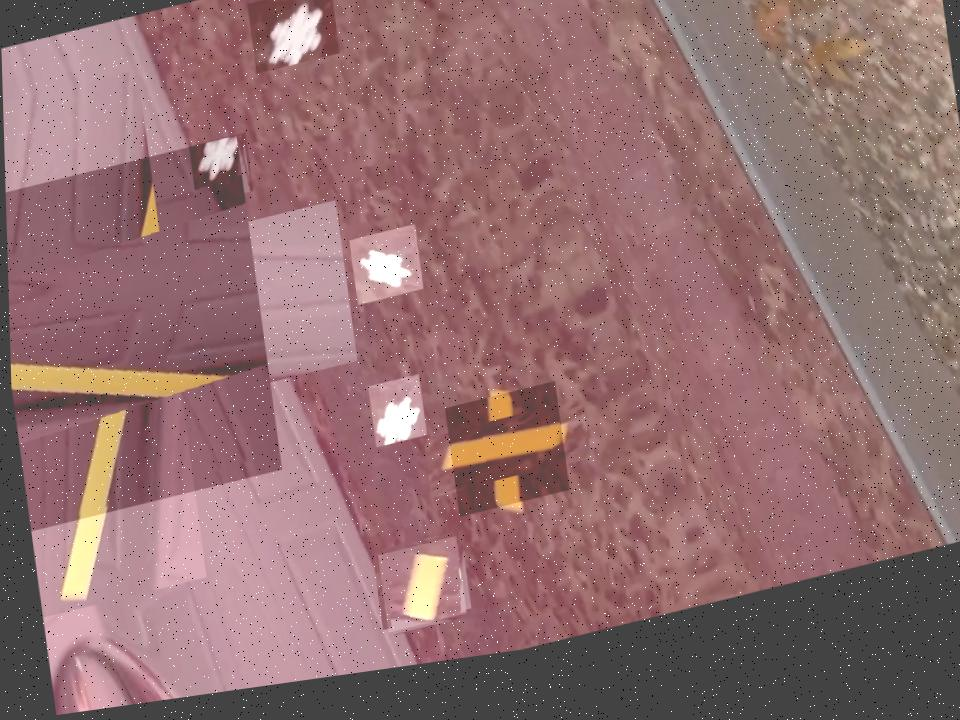dent: (247, 0, 340, 81), (348, 235, 422, 316), (188, 138, 253, 211), (366, 384, 425, 457)
scratch: (4, 137, 279, 533), (443, 396, 567, 531), (375, 548, 464, 644)
